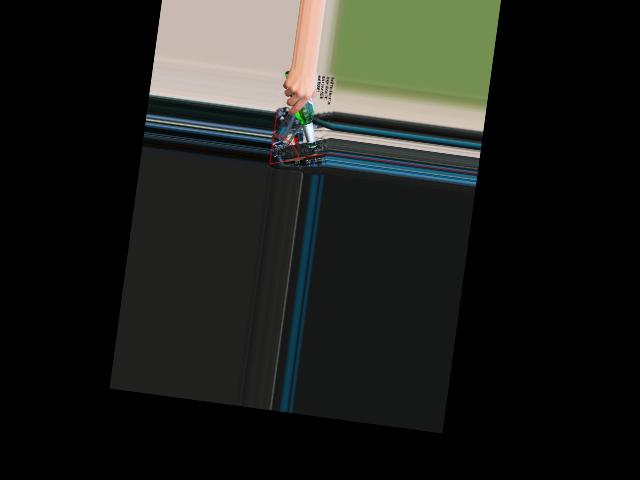beer: (275, 70, 325, 150)
